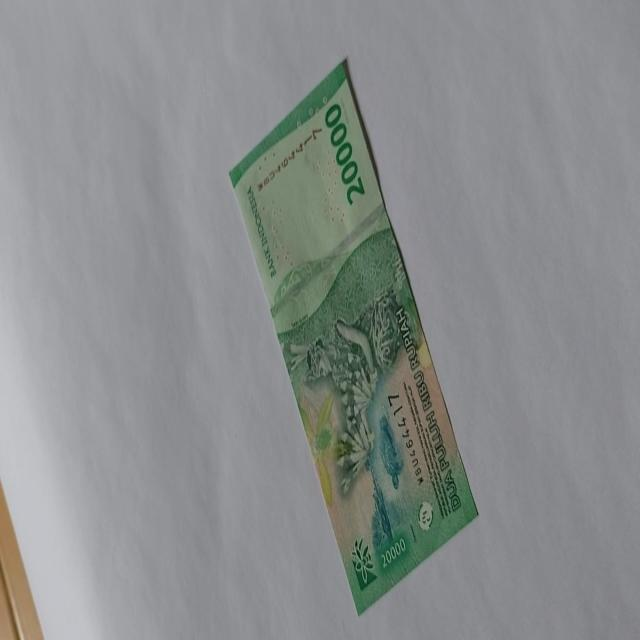dua puluh ribu rupiah: (227, 57, 479, 615), (286, 282, 414, 498)
